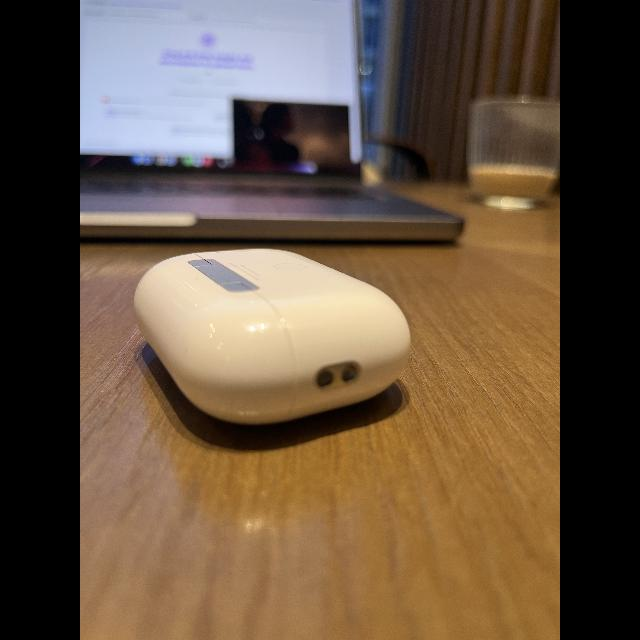AirPods Pro: (136, 243, 417, 439)
